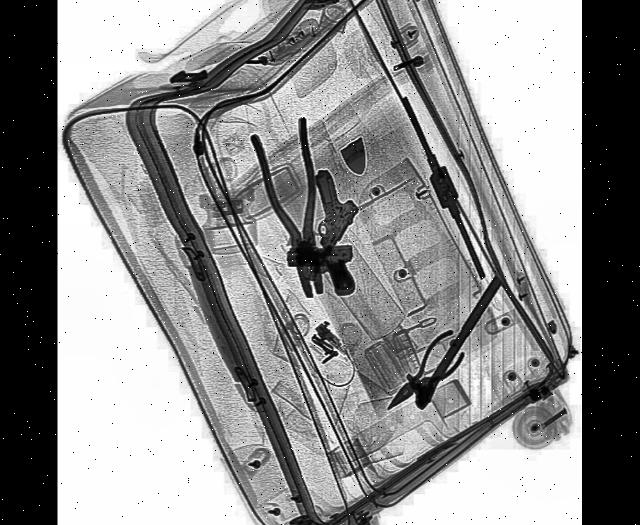Gun: (276, 165, 362, 284), (285, 244, 354, 299)
Pliers: (249, 114, 342, 308), (378, 327, 466, 428)
